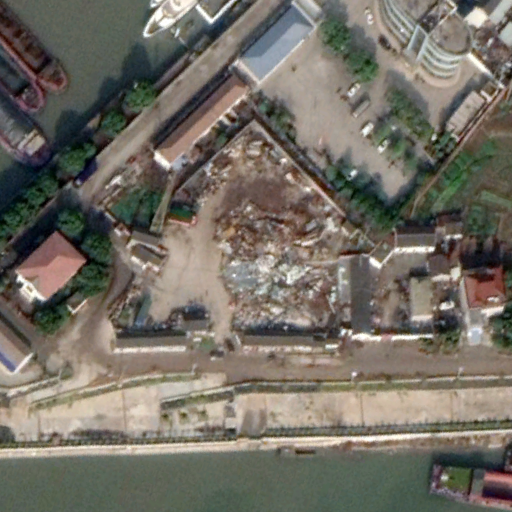msw: (218, 202, 341, 336)
